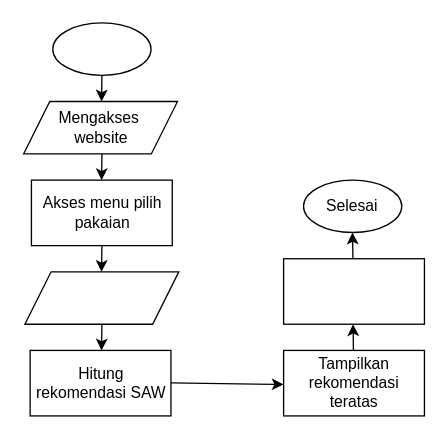
The diagram is 447 pixels wide and 439 high, and some of its shapes have lost their labels. The shapes that lost their labels are listed below. From the top down, each one's box as (x1, y1, x2, y2) in pixels, then its label:
(51, 22, 151, 75): Mulai
(24, 271, 179, 324): Isi kuisioner preferensi
(282, 257, 424, 324): Melihat Daftar Pakaian
